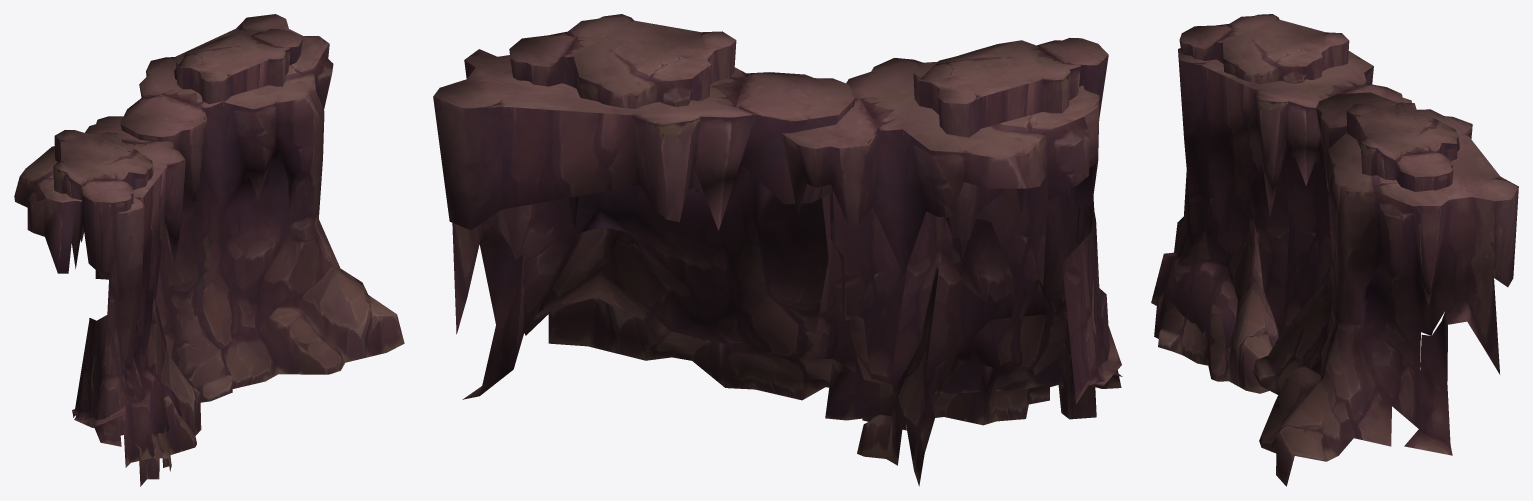
File: huoshan_2.FBX
The picture shows the model from 3 angles, left to right: view 1: azimuth 30°, elevation 25°; view 2: azimuth 150°, elevation 25°; view 3: azimuth 270°, elevation 25°; orthographic projection. The views are drawn at different scales.
Parts seen in each view (by area): view 1: huoshan_2; view 2: huoshan_2; view 3: huoshan_2.
Part boxes in pixels (x1,y1,x2,y2): huoshan_2: (14, 14, 404, 486); huoshan_2: (433, 14, 1122, 486); huoshan_2: (1151, 14, 1518, 486).
Bounding box in the file's own units: 1290 × 988 × 1023.
